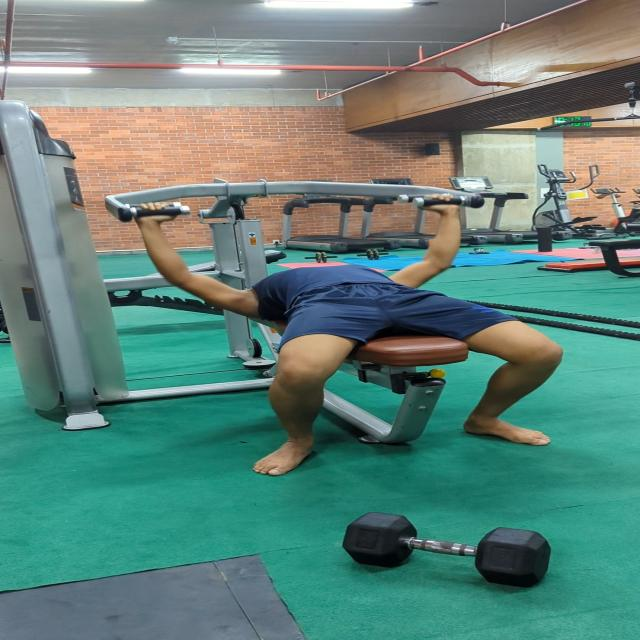Normal_BrenchPress: (117, 186, 610, 486)
